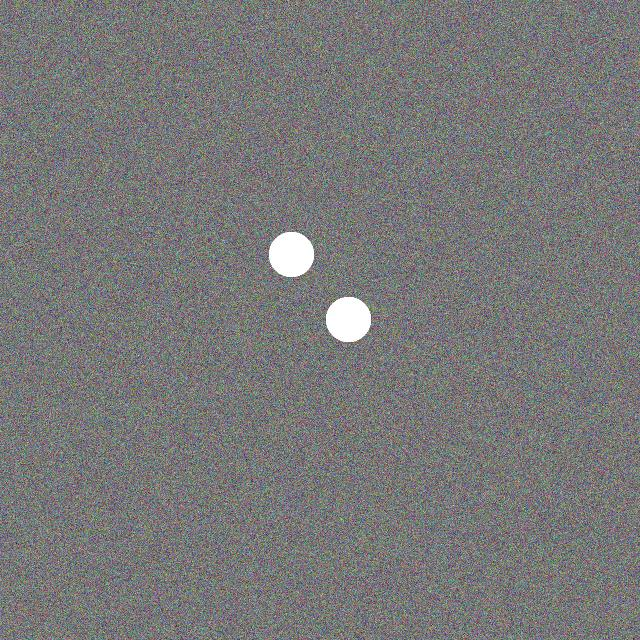E: (266, 228, 375, 415)
